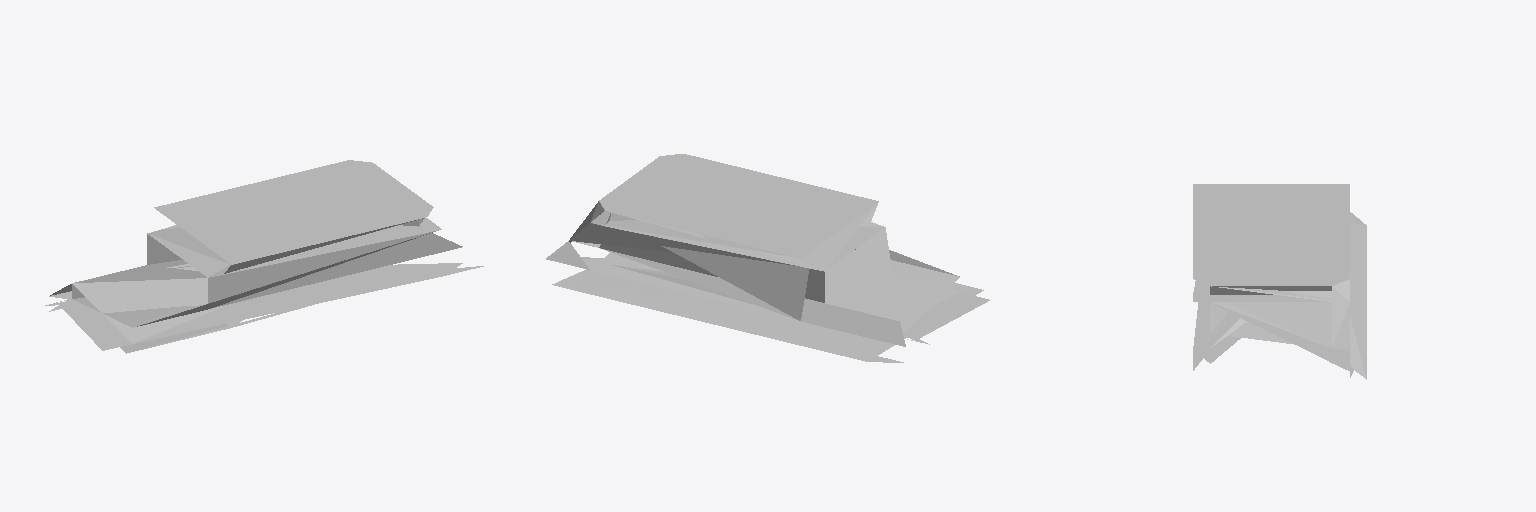
Rendered from carrito.obj.
3 views of the same model, side by side, from view 1: azimuth 30°, elevation 25°; view 2: azimuth 150°, elevation 25°; view 3: azimuth 270°, elevation 25° (orthographic).
Size of the model in its own units: 25 by 5 by 10.